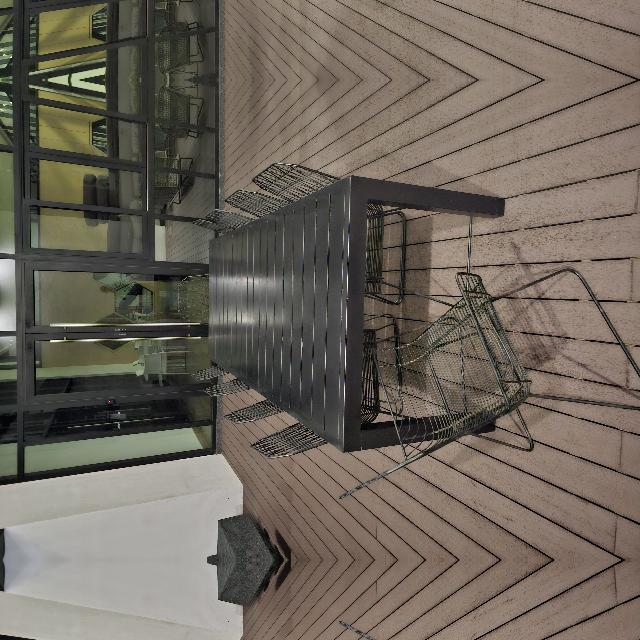door: (112, 87, 304, 296), (112, 0, 303, 73)
obstacle: (89, 268, 426, 640), (89, 450, 426, 640)
